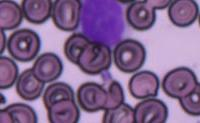L: (78, 0, 130, 47)
